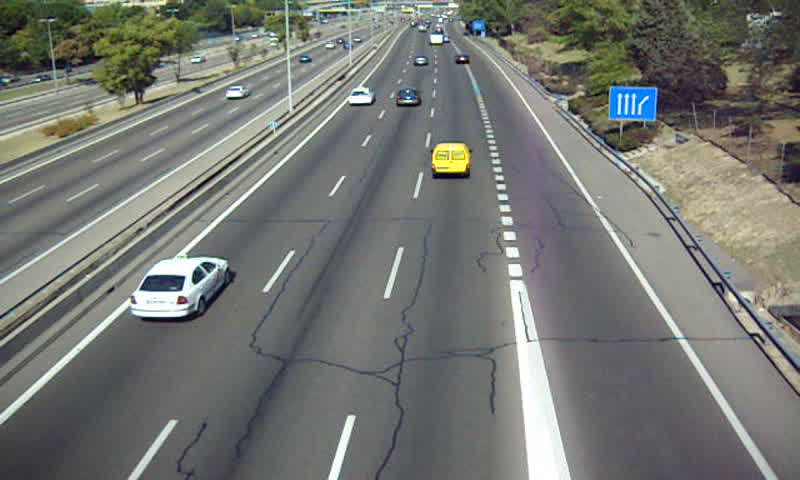car: (129, 257, 230, 321), (347, 87, 375, 106), (397, 88, 422, 108), (455, 52, 471, 66), (413, 54, 428, 68)
van: (431, 142, 471, 178)
